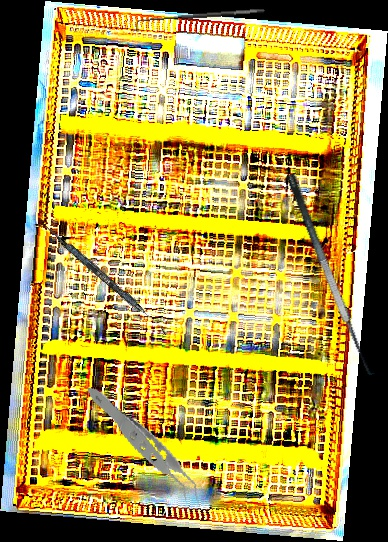Hook Surgical: (134, 6, 266, 33)
Spatula Surgical: (283, 166, 387, 380), (35, 219, 173, 336)
Tissue Forceps: (85, 368, 203, 529)
